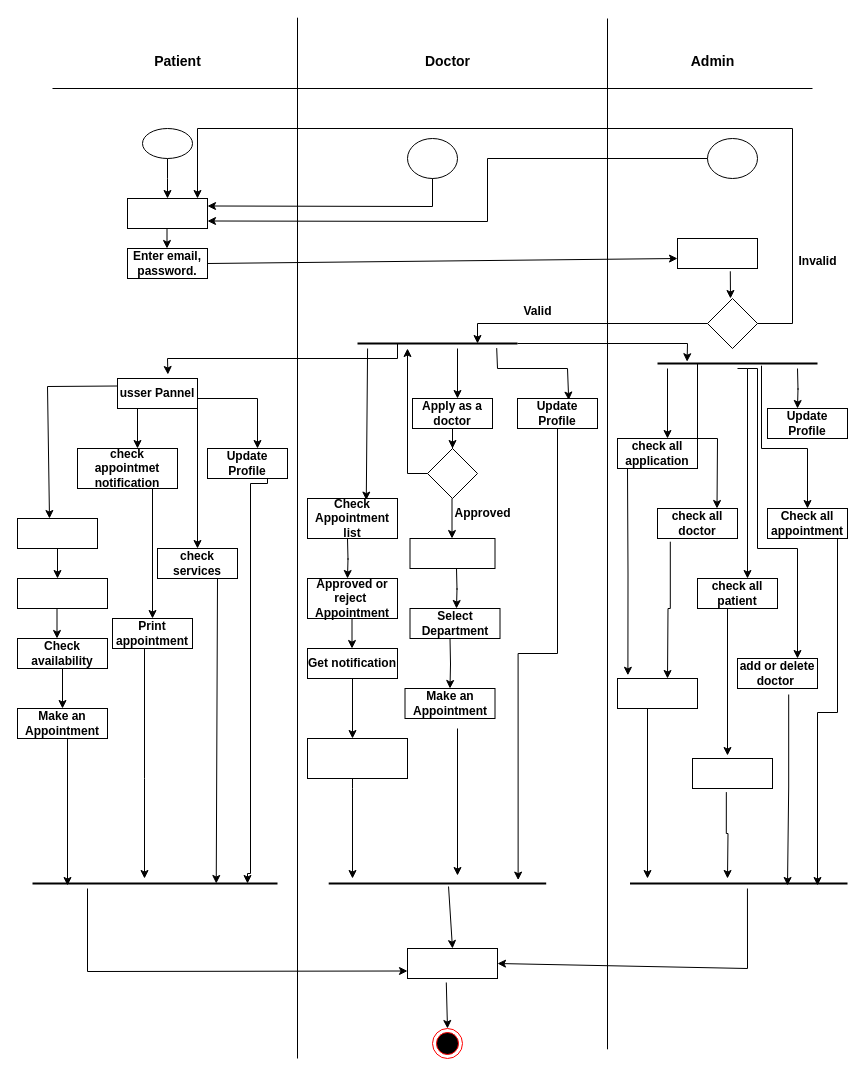
The diagram is 866 pixels wide and 1077 high, and some of its shapes have lost their labels. Here are the shapes that lost their labels. From the top down, the centre of each, then its label:
At (167,213): "Login".
At (717,253): "Check validation".
At (452,473): "Reject".
At (57,533): "see doctor-list".
At (452,553): "Doctor List".
At (62,593): "Search doctor specialization".
At (657,693): "add or remove".
At (357,758): "Print appointment list".
At (732,773): "remove patient".
At (452,963): "Logout".
